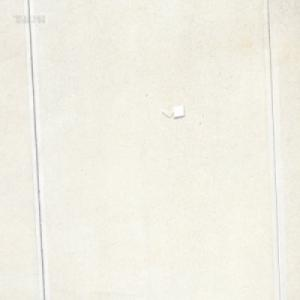LuggageTag: (161, 104, 184, 120)
